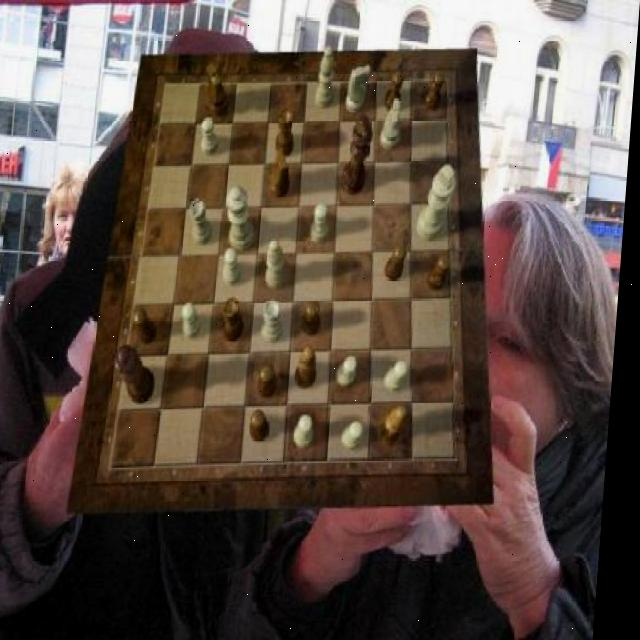bishop: (385, 405, 415, 446), (300, 348, 325, 390)
black-bishop: (344, 114, 376, 195)
black-king: (205, 63, 232, 117), (273, 148, 295, 198)
black-knight: (424, 71, 447, 112), (137, 309, 163, 344), (431, 256, 456, 292), (388, 244, 411, 280), (386, 71, 406, 112), (263, 364, 284, 398), (307, 302, 328, 336), (256, 411, 278, 443)
black-pawn: (118, 346, 164, 406)
black-queen: (226, 298, 251, 342), (277, 108, 299, 157)
black-rook: (317, 45, 338, 107), (269, 240, 293, 291)
white-bishop: (418, 164, 459, 240)
white-king: (347, 64, 372, 114), (382, 98, 405, 151)
white-knight: (390, 360, 415, 392), (187, 303, 208, 339), (314, 205, 333, 243), (300, 416, 321, 450), (227, 248, 246, 285), (202, 119, 221, 156), (342, 357, 364, 388), (347, 423, 370, 451)
white-pawn: (227, 185, 263, 250)
white-queen: (192, 200, 219, 246), (266, 298, 291, 341)
